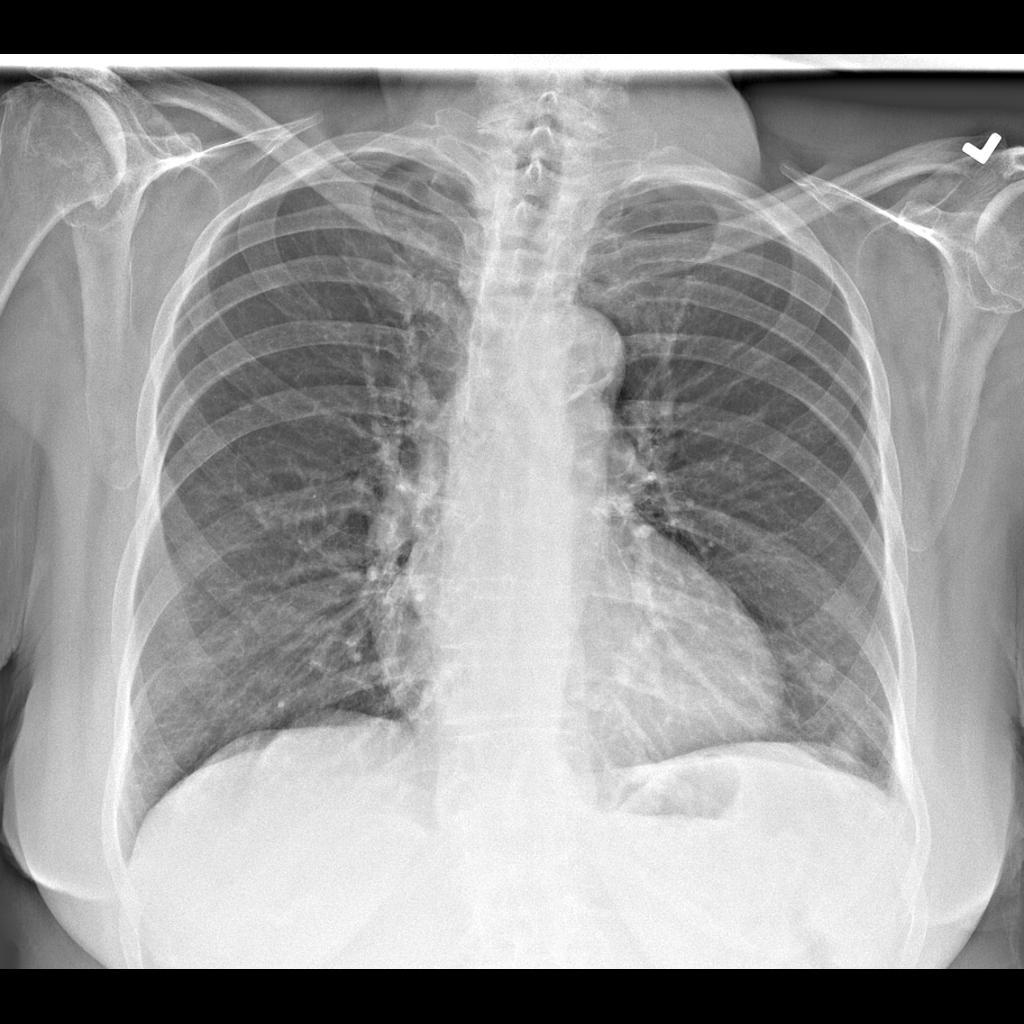Nodule: (804, 648, 844, 694), (831, 725, 870, 765)
